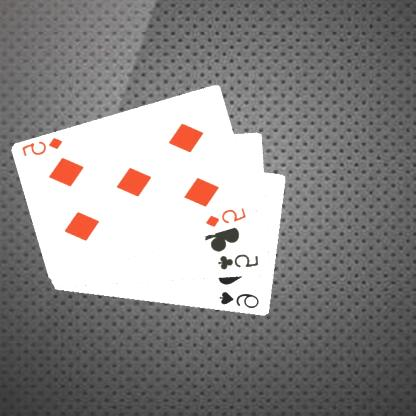5C: (217, 252, 262, 272)
5D: (21, 134, 66, 158), (205, 205, 249, 229)
9S: (218, 289, 263, 310)
